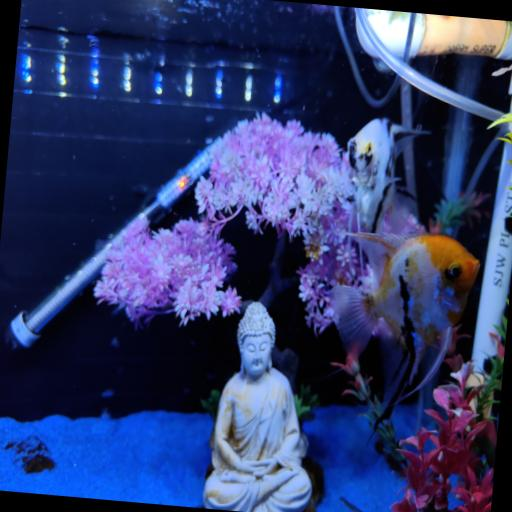Fish: (331, 233, 479, 421), (347, 118, 428, 232)
